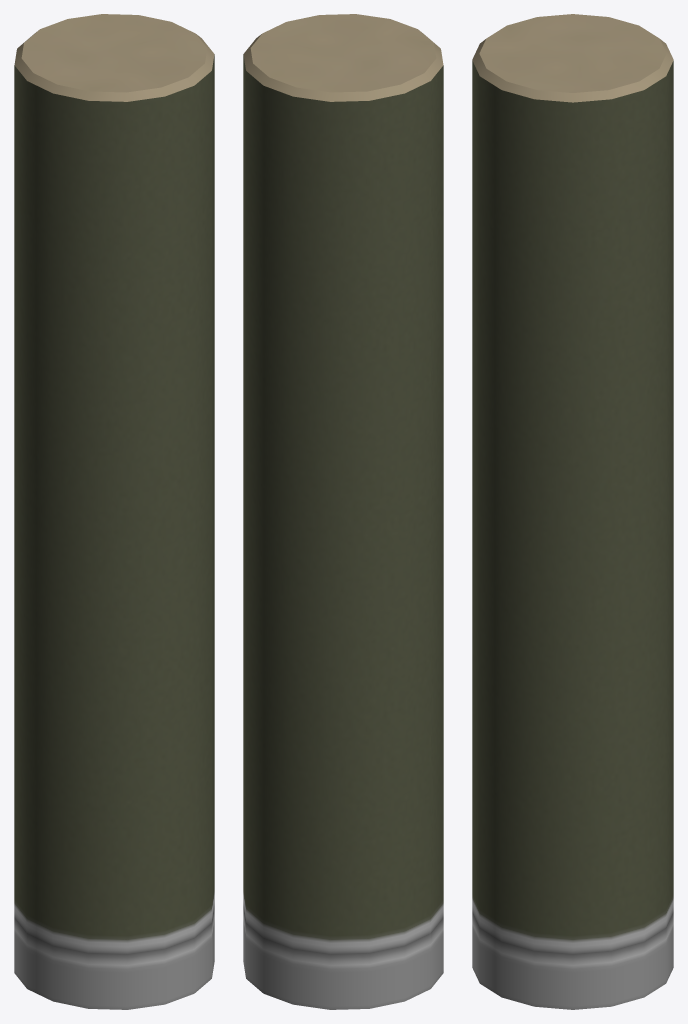
Rendered from column2_1.fbx.
The picture shows the model from 3 angles, left to right: view 1: azimuth 30°, elevation 25°; view 2: azimuth 150°, elevation 25°; view 3: azimuth 270°, elevation 25°; orthographic projection.
Visible parts, largest first — view 1: column2_a; view 2: column2_a; view 3: column2_a.
Part boxes in pixels (x1,y1,x2,y2): column2_a: (14,14,214,1009); column2_a: (243,14,443,1009); column2_a: (472,14,673,1009).
Bounding box in the file's own units: 80 × 400 × 80.
